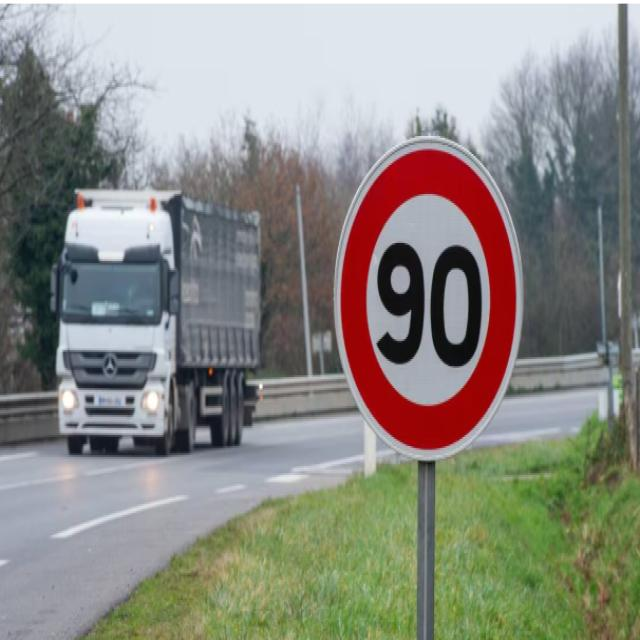speed_90: (330, 134, 524, 465)
